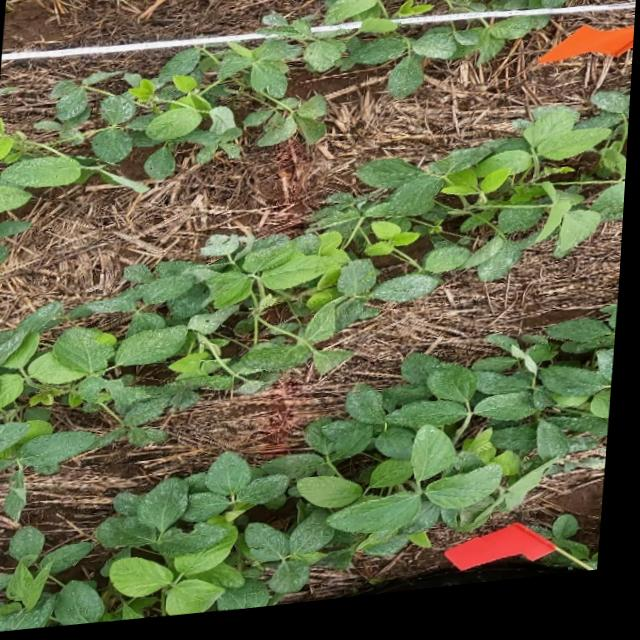soy_plant: (0, 106, 632, 521), (0, 318, 621, 632), (0, 0, 619, 211), (546, 529, 605, 585)
